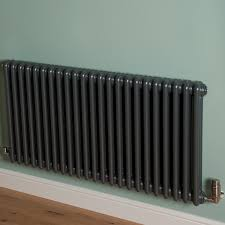Radiator: (1, 57, 222, 209)
